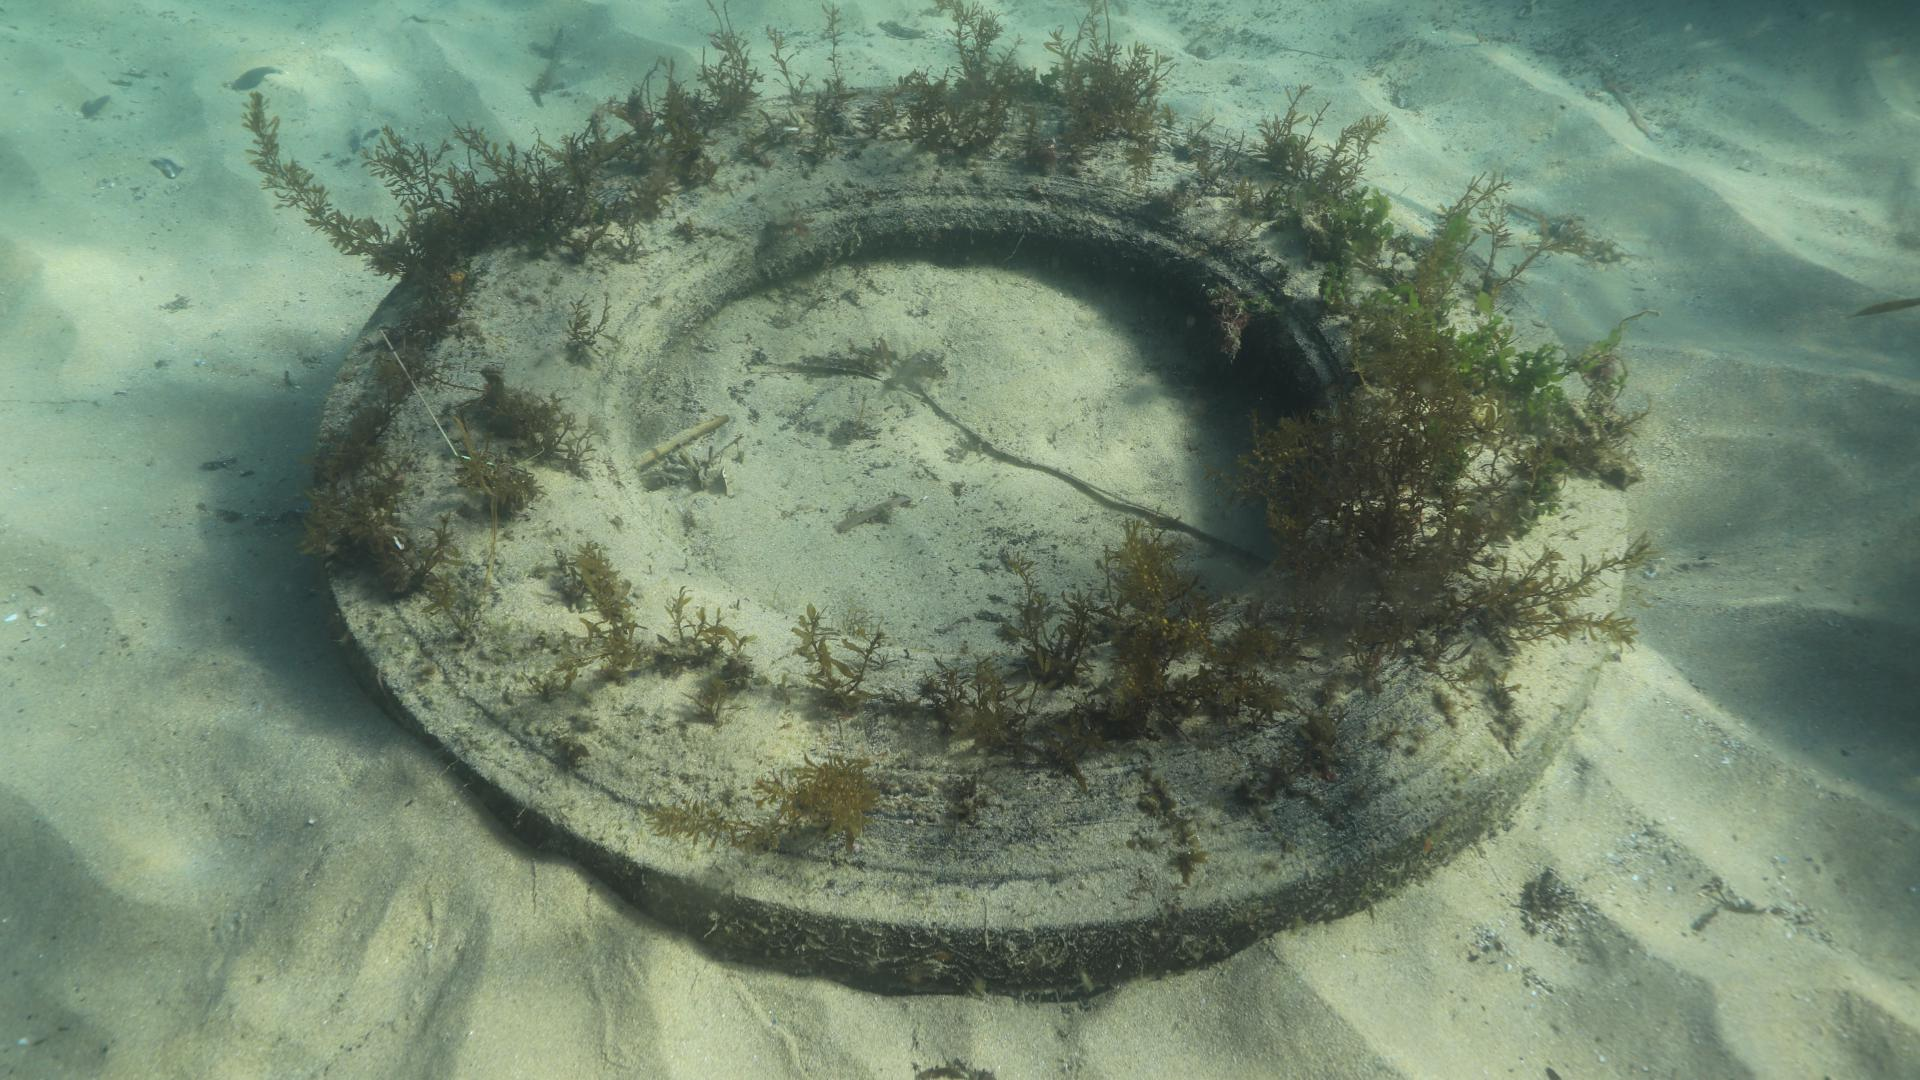tire: (311, 82, 1630, 1002)
